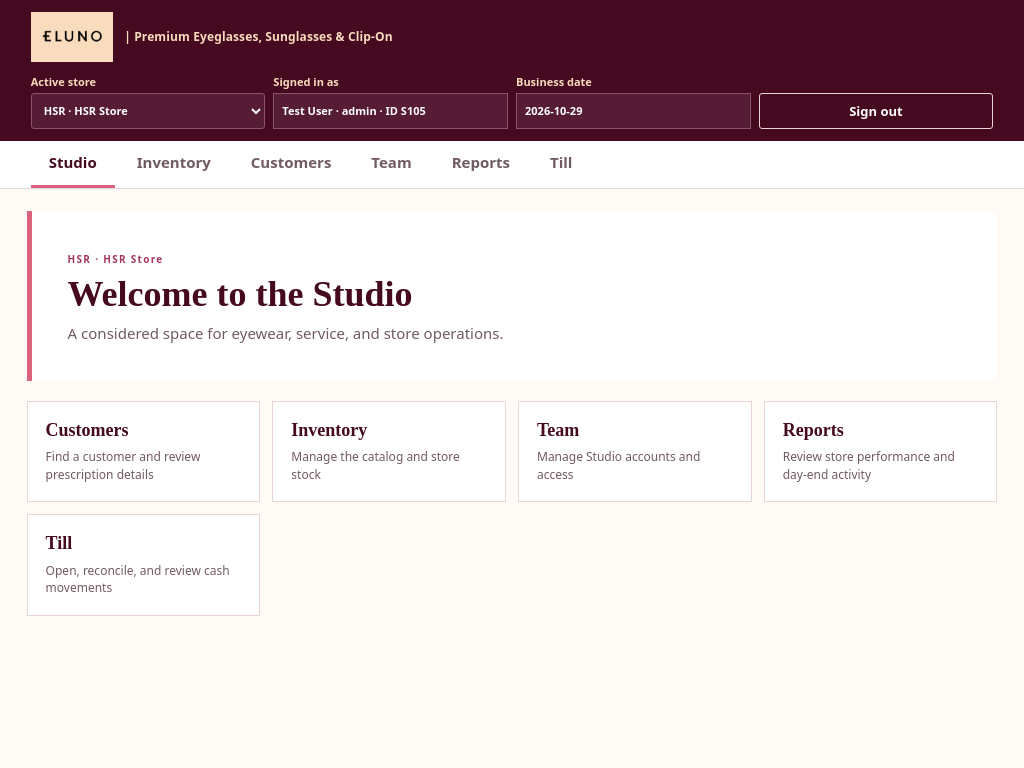
Test: browser POS workflows › shows Studio, Inventory, Customers, Team, and Reports but not Sales for Admins
This screenshot has width=1024, height=768.
Expected: the heading "Welcome to the Studio" is shown, left=68, top=274, right=413, bottom=314
Expected: the button "Studio" is shown, left=31, top=141, right=115, bottom=188
Click the button "Customers": (291, 164) left=233, top=141, right=349, bottom=188
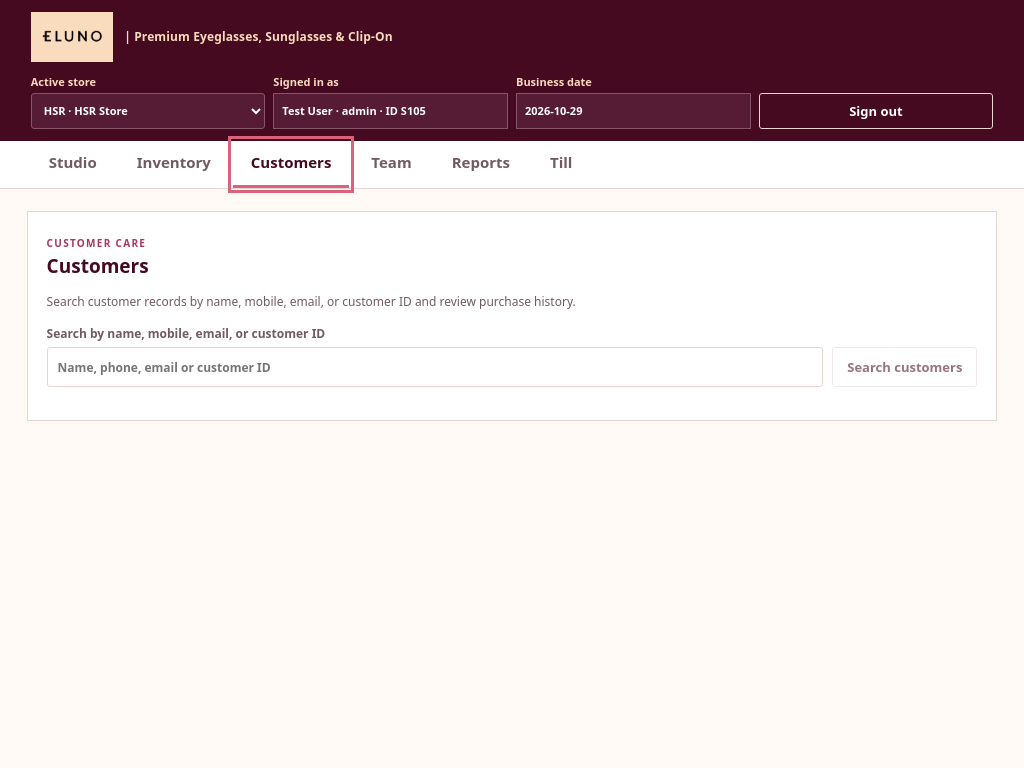
Expected: the heading "Customers" is shown, left=47, top=255, right=149, bottom=278
